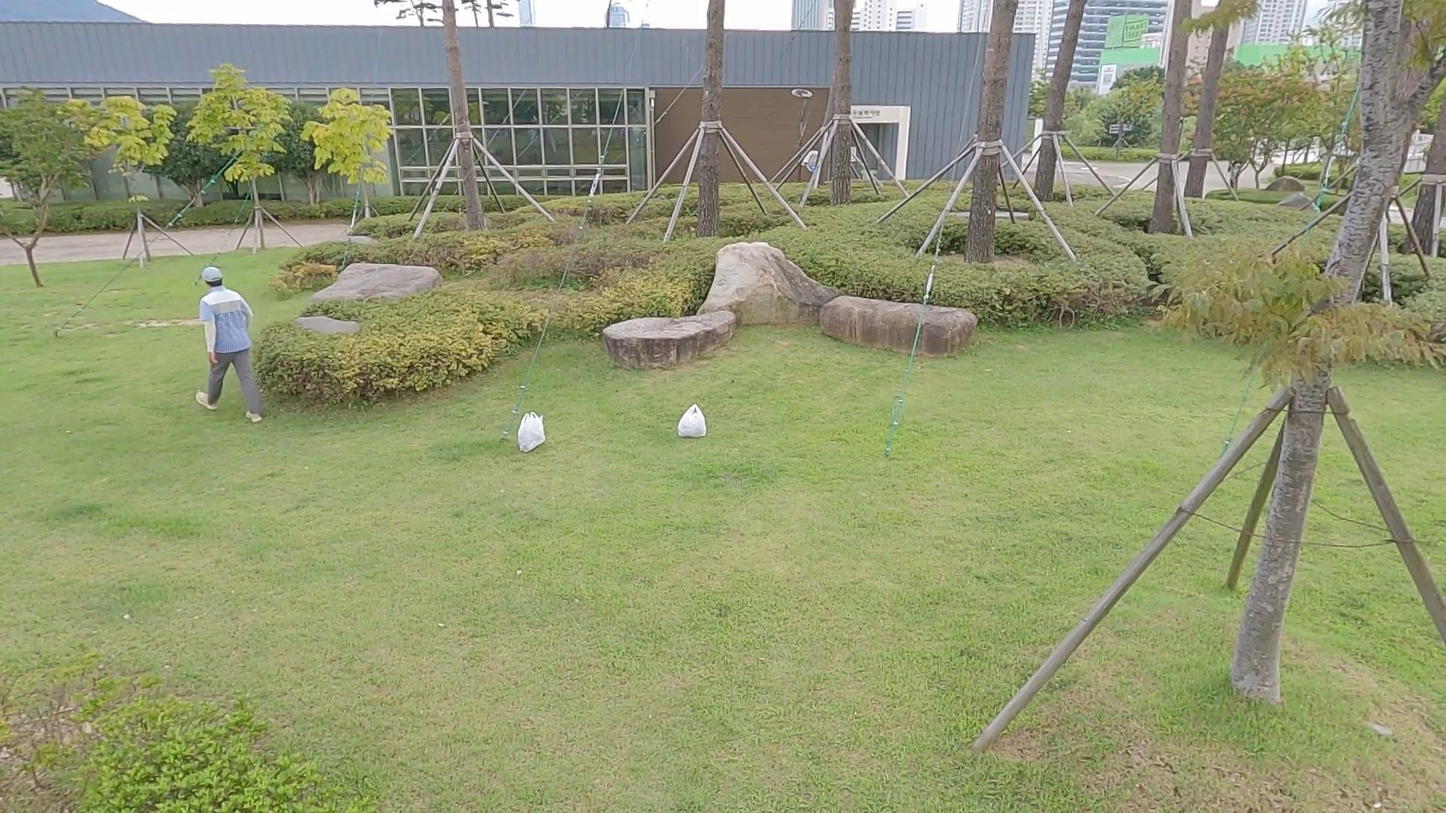person: (190, 260, 264, 427)
trash: (518, 410, 550, 455), (675, 402, 706, 437)
